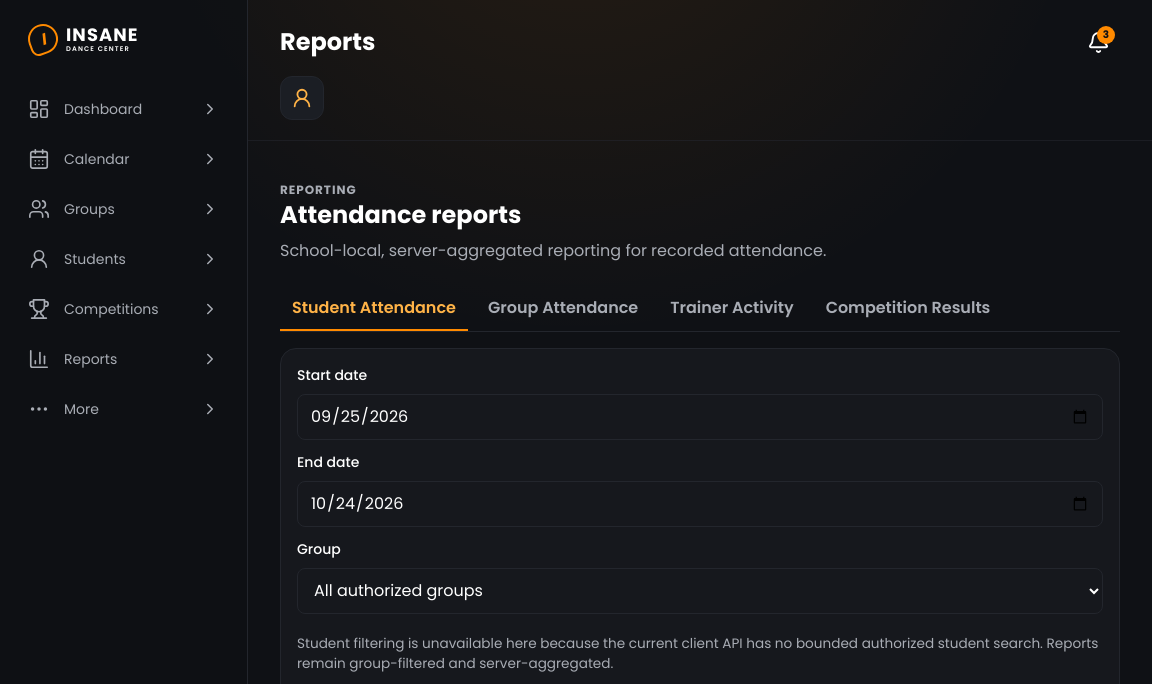
ReportsPage › renders trainer activity directly from the aggregate RPC for admins and trainers
Click the tab "Trainer Activity" at coordinates (732, 309), box [658,287,806,331]
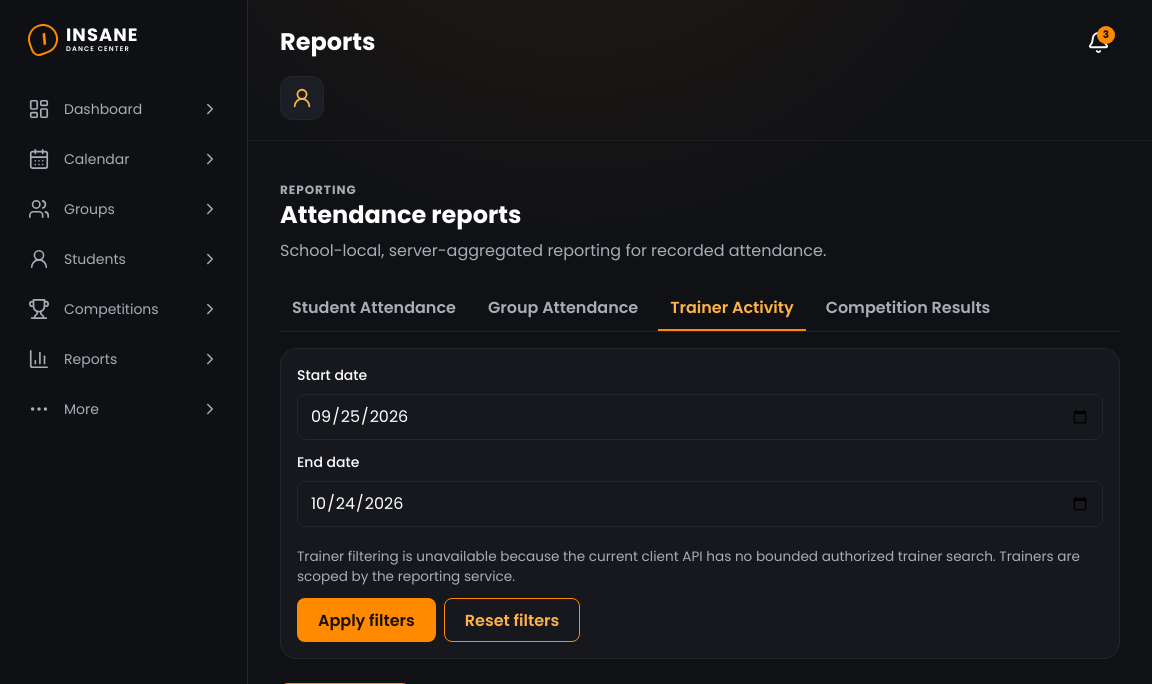
Click the tab "Competition Results" at coordinates (908, 309), box [814,287,1002,331]
(page scrolled)
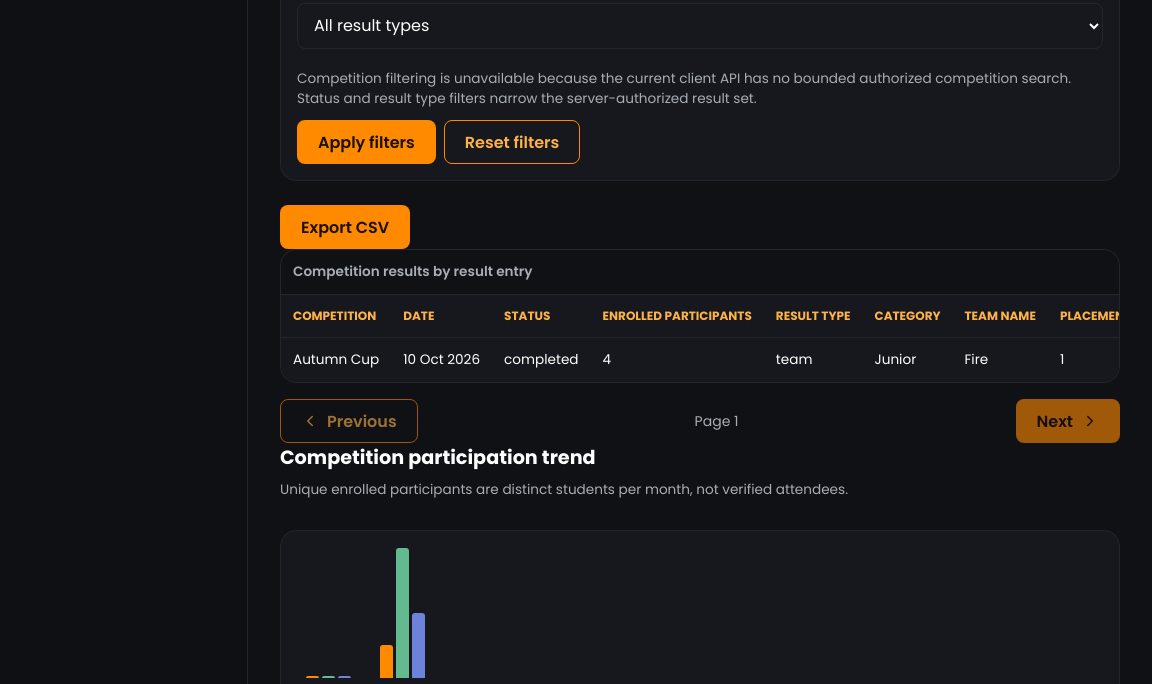
Expected: the text "Autumn Cup" is shown, [281,338,391,382]
